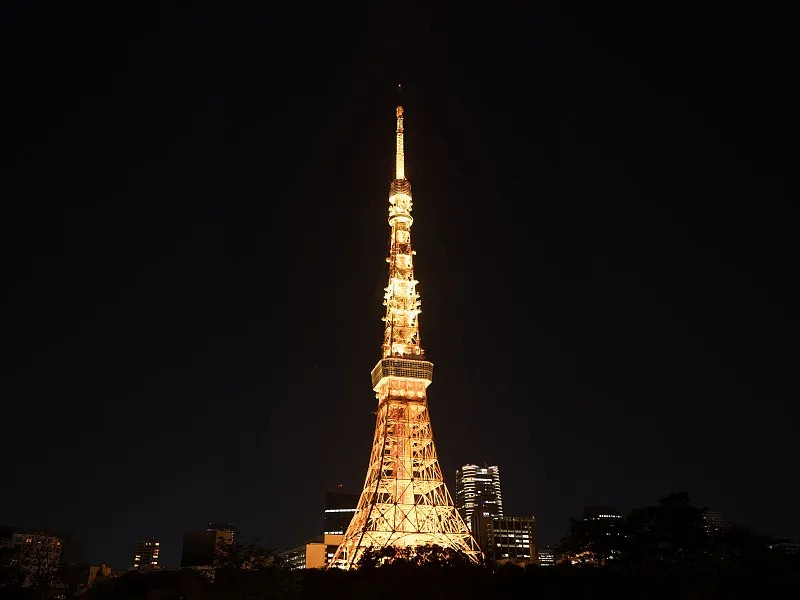Tokyo: (324, 78, 490, 571)
